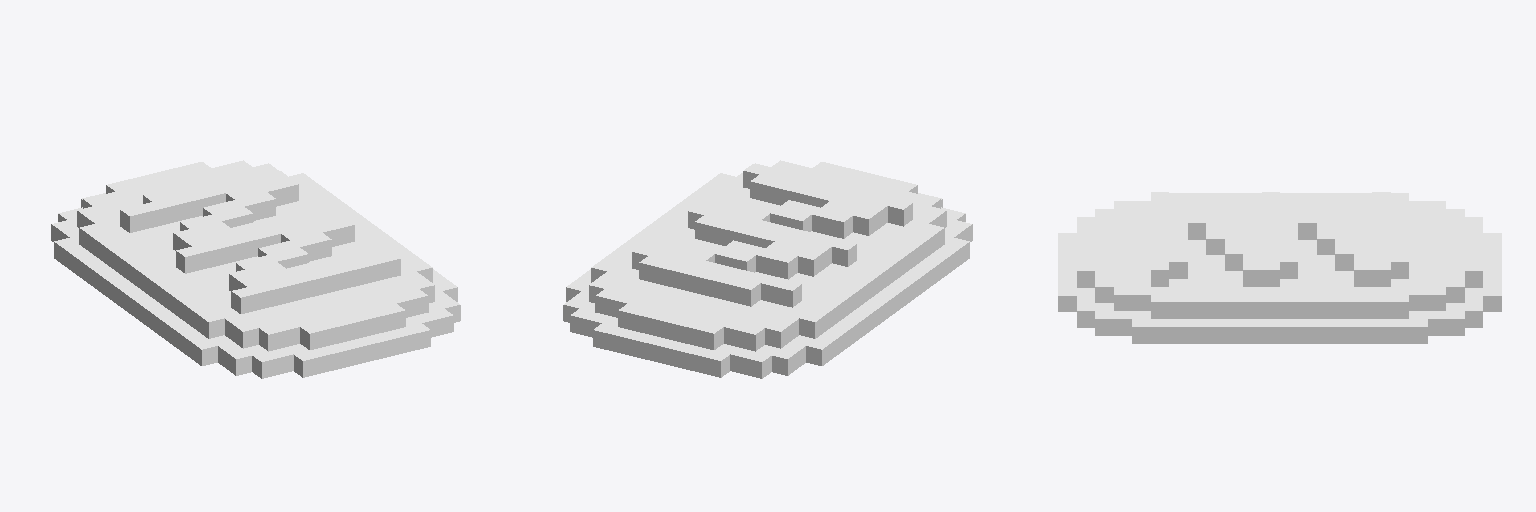
The model's file is jumpField.obj.
The picture shows the model from 3 angles: view 1: azimuth 30°, elevation 25°; view 2: azimuth 150°, elevation 25°; view 3: azimuth 270°, elevation 25°; orthographic projection.
Parts seen in each view (by area): view 1: ObjObject.010; view 2: ObjObject.010; view 3: ObjObject.010.
Boxes of the visible parts, <box> form: ObjObject.010: <box>51,160,460,378</box>; ObjObject.010: <box>563,160,972,378</box>; ObjObject.010: <box>1058,192,1501,343</box>.
Bounding box in the file's own units: 1.6 × 0.3 × 2.4.